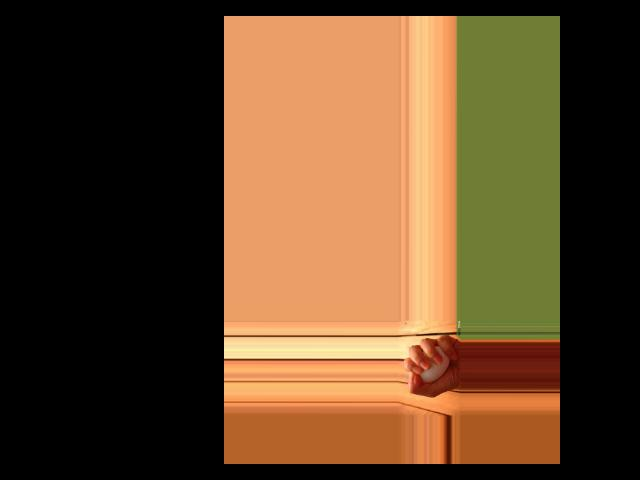egg: (420, 345, 450, 382)
